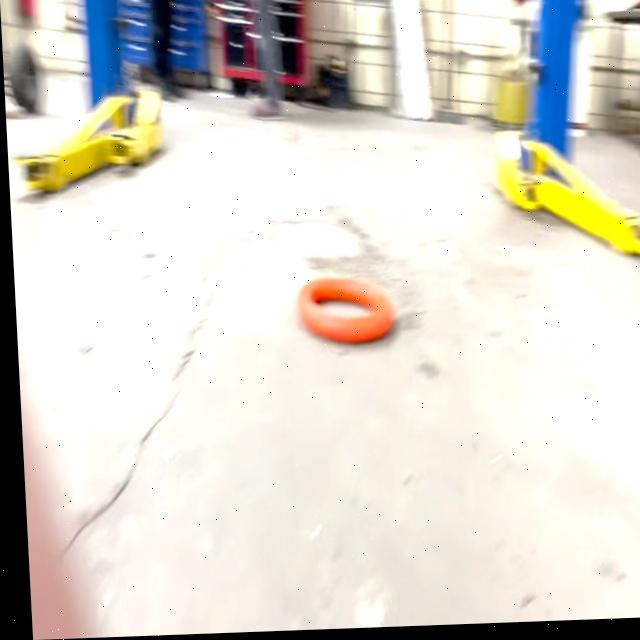note: (294, 270, 392, 353)
